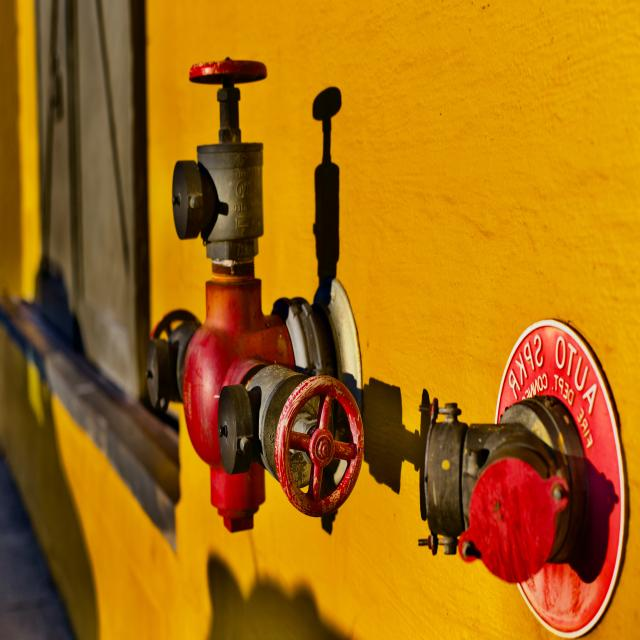Wheel Handle Valve Threaded: (238, 369, 364, 517), (189, 55, 267, 264)
